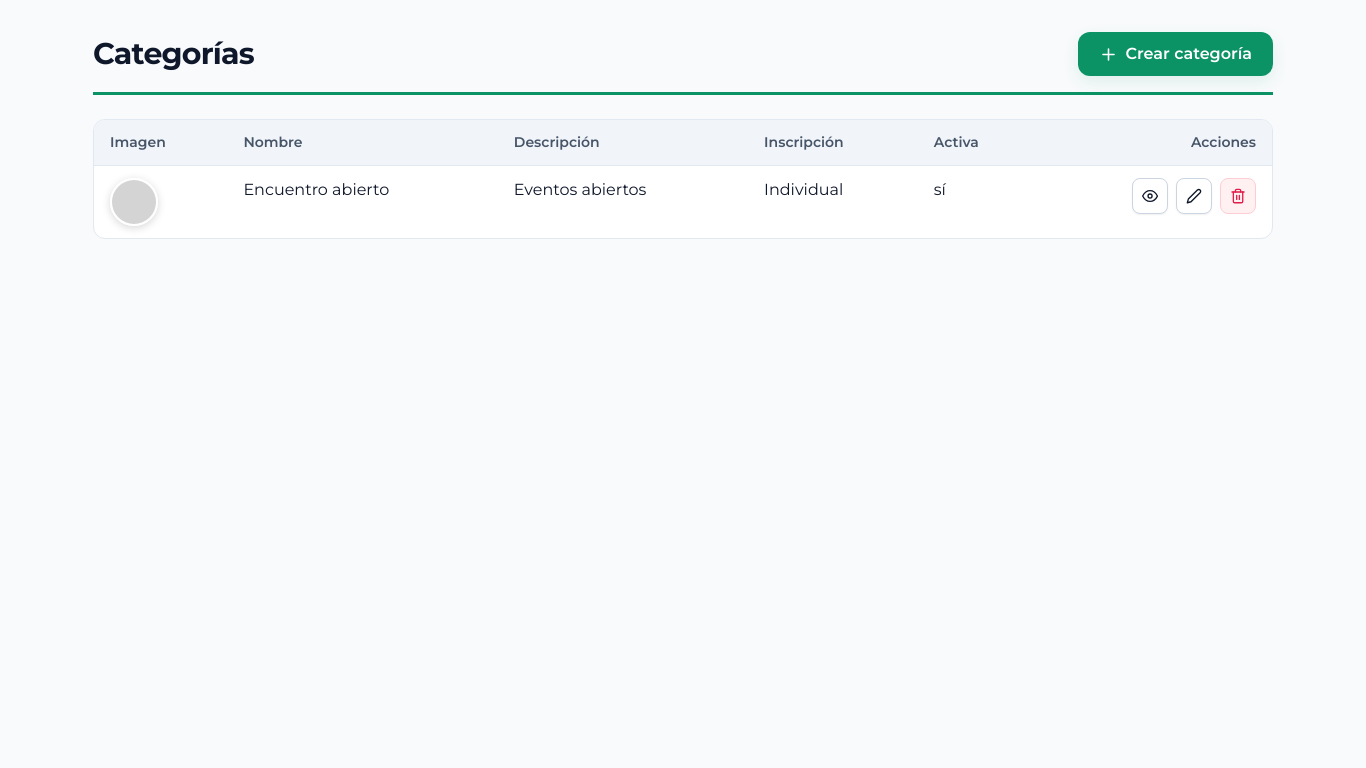
Scenario: EventCategoriesList › shows active categories for the admin list
The image size is (1366, 768).
expect the heading "Categorías" is shown: met, box x1=93 y1=37 x2=254 y2=71
expect the text "Encuentro abierto" is shown: met, box x1=227 y1=166 x2=498 y2=238
Step 1. Click the button named "Ver detalles" → (1150, 196), box x1=1132 y1=178 x2=1168 y2=214
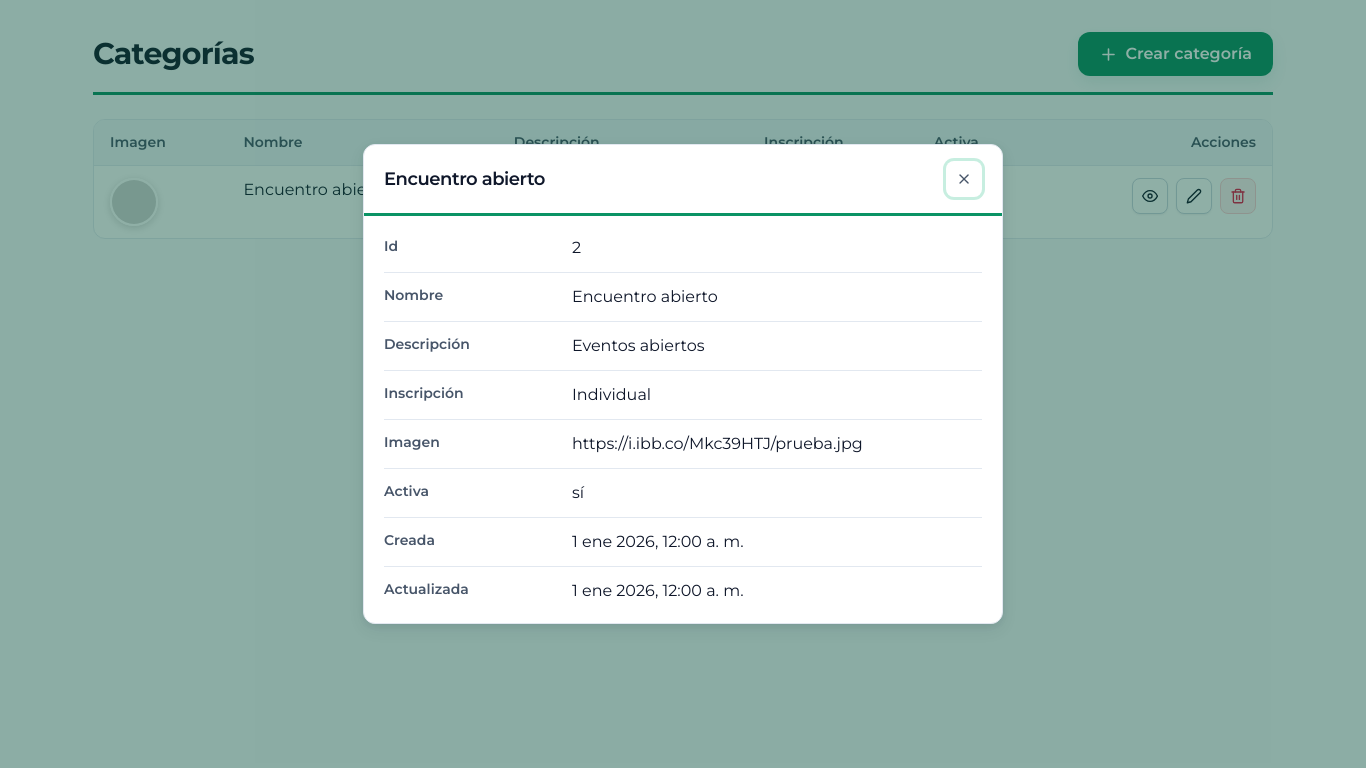
expect the dialog "Encuentro abierto" is shown: met, box x1=363 y1=144 x2=1003 y2=624
